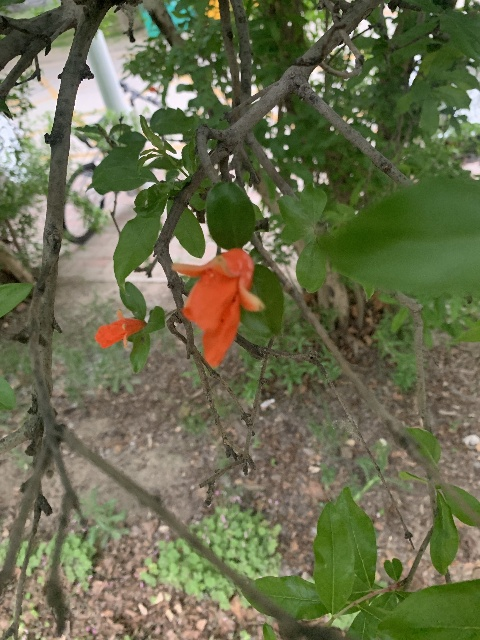flower: (171, 246, 263, 366), (94, 309, 145, 349)
